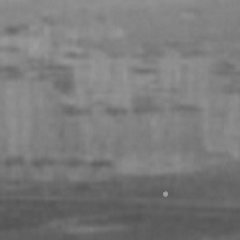Target: (162, 190, 169, 198)
